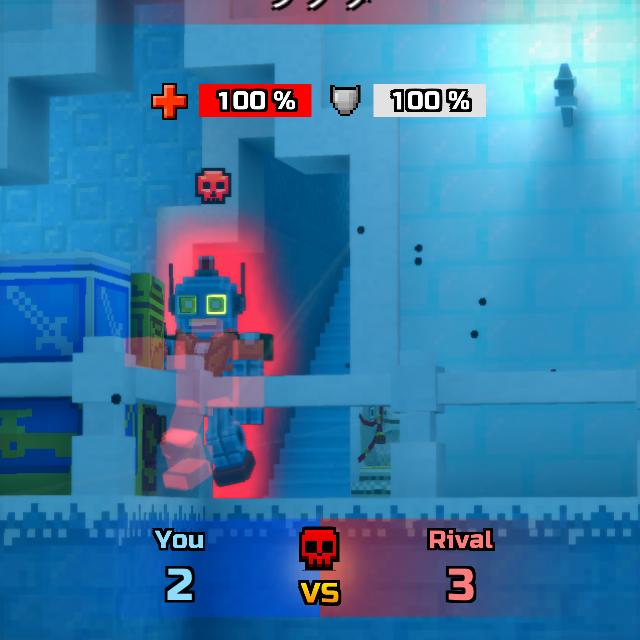Enemy: (167, 275, 274, 488)
